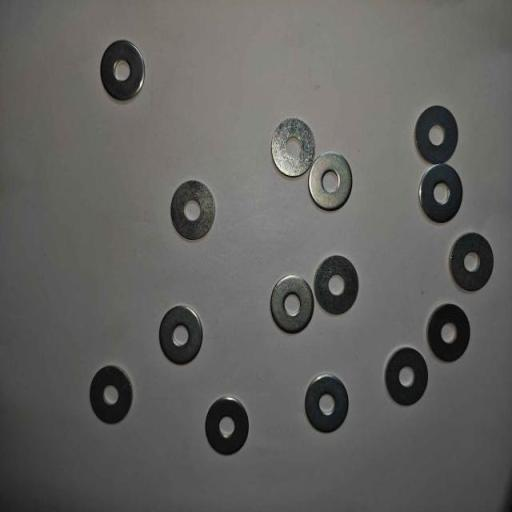washer: (100, 40, 146, 102), (414, 104, 460, 166), (271, 117, 317, 178), (426, 303, 472, 364), (170, 179, 215, 241), (314, 255, 359, 316), (449, 232, 494, 292), (308, 153, 354, 211), (204, 397, 250, 455), (384, 347, 429, 406), (419, 164, 463, 224), (158, 305, 202, 365), (270, 275, 314, 334), (305, 374, 349, 433), (90, 365, 134, 424)
